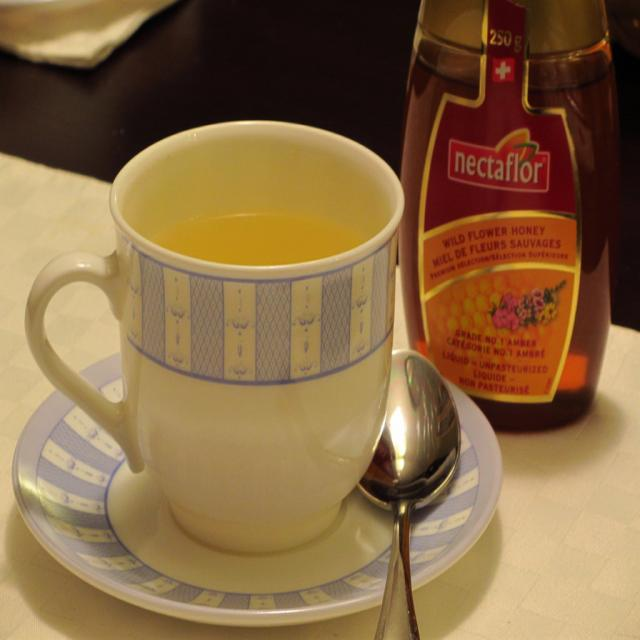Tea: (147, 215, 363, 263)
